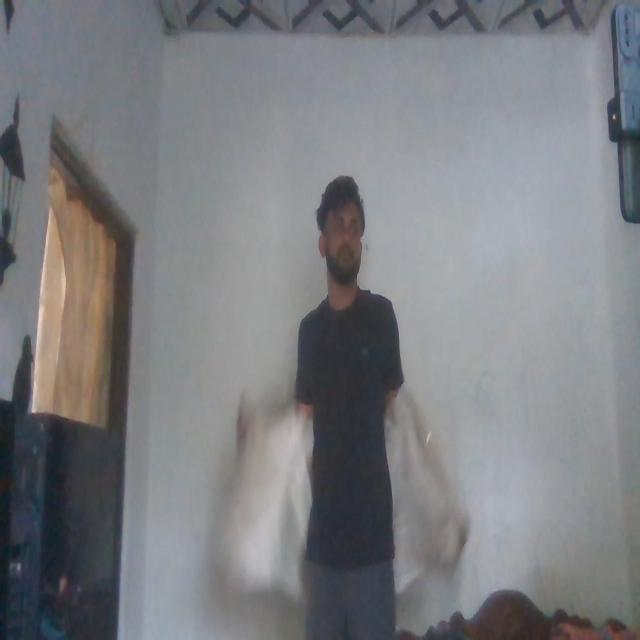Jacket_Wearer: (214, 302, 468, 591)
Person: (278, 166, 406, 625)
